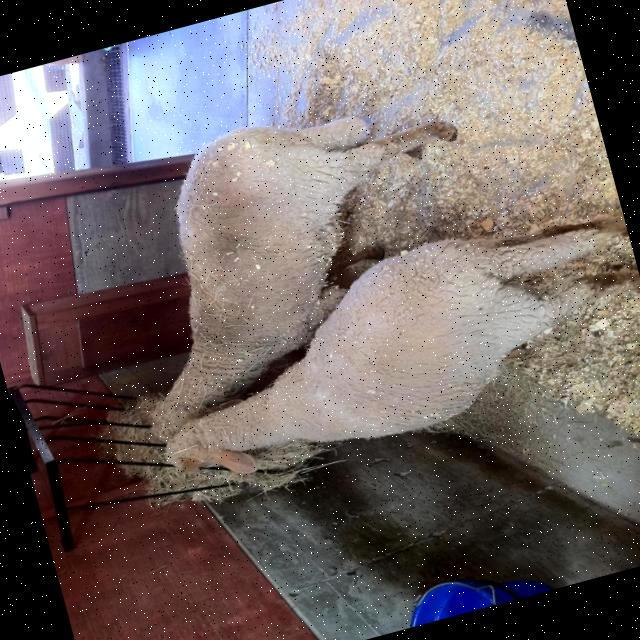sheep: (165, 226, 640, 476), (152, 113, 452, 426)
